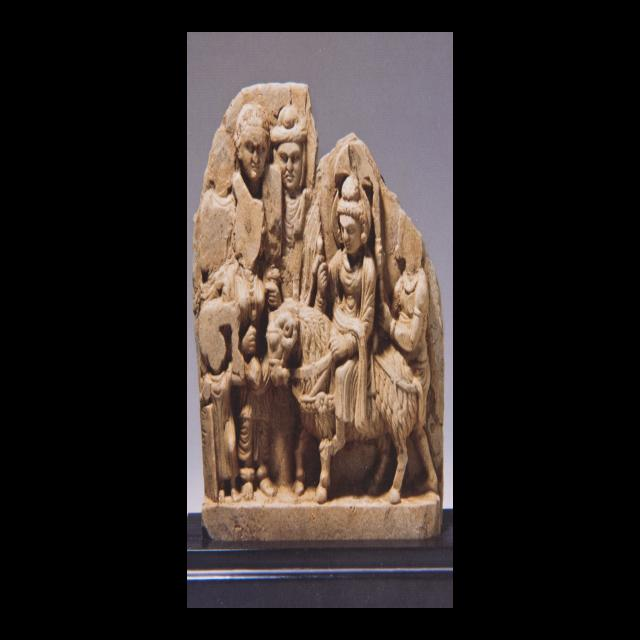buddha-horse-riding: (266, 169, 438, 504)
